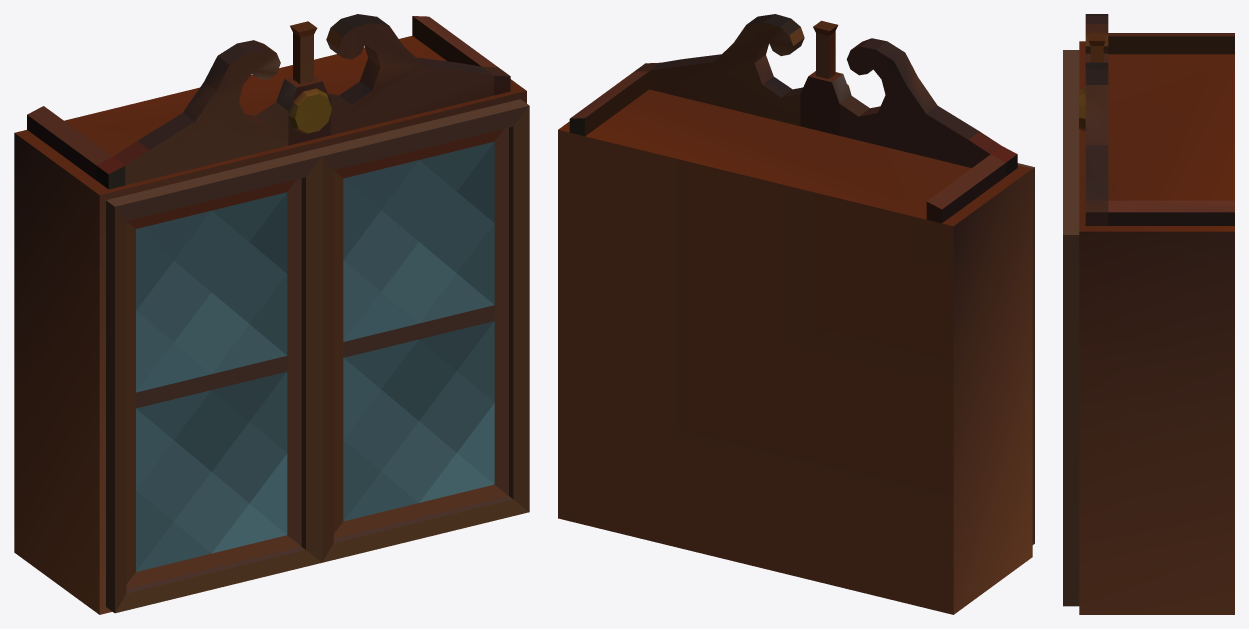
The model's file is Furniture_CupboardA.fbx.
3 views of the same model, side by side, from view 1: azimuth 30°, elevation 25°; view 2: azimuth 150°, elevation 25°; view 3: azimuth 270°, elevation 25° (orthographic). The views are drawn at different scales.
Parts seen in each view (by area): view 1: Furniture_CupboardA; view 2: Furniture_CupboardA; view 3: Furniture_CupboardA.
Boxes of the visible parts, bbox=[...] form: Furniture_CupboardA: bbox=[14, 14, 529, 614]; Furniture_CupboardA: bbox=[558, 14, 1034, 614]; Furniture_CupboardA: bbox=[1063, 14, 1234, 614].
Size of the model in its own units: 169 by 200 by 64.69.
